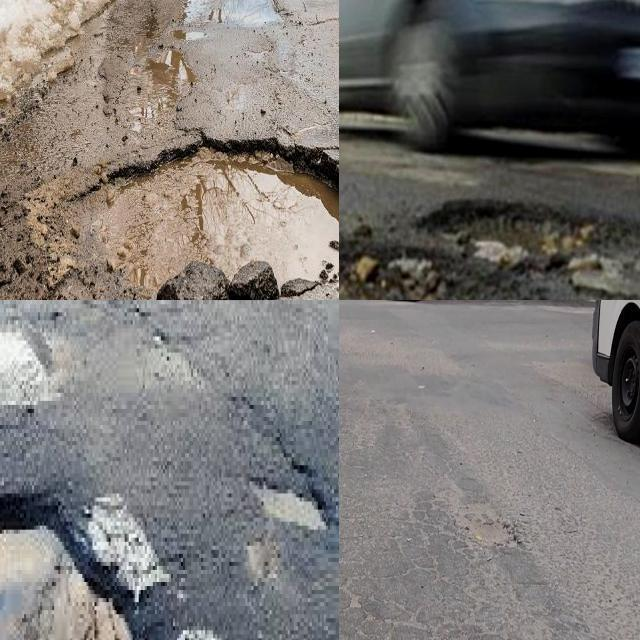Pothole: (59, 139, 339, 300), (422, 199, 640, 276), (461, 517, 518, 548)
